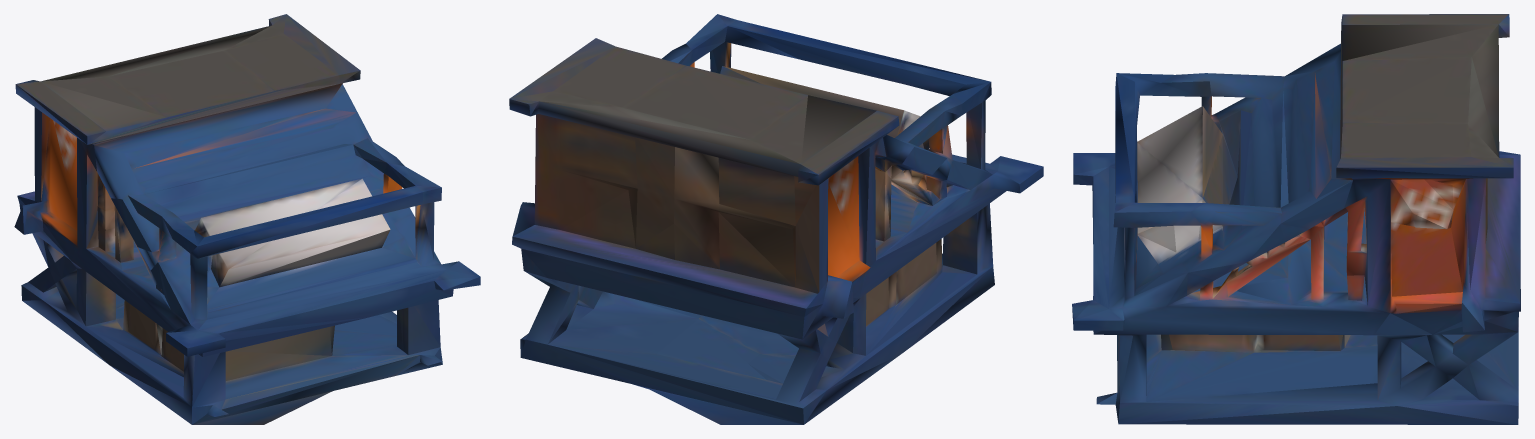
Rendered from Buil_DeliveryHub_Lv2.fbx.
The picture shows the model from 3 angles, left to right: view 1: azimuth 30°, elevation 25°; view 2: azimuth 150°, elevation 25°; view 3: azimuth 270°, elevation 25°; orthographic projection. The views are drawn at different scales.
Visible parts, largest first — view 1: tripo_node_fb7e8506.005; view 2: tripo_node_fb7e8506.005; view 3: tripo_node_fb7e8506.005.
Boxes of the visible parts, x1=… form: tripo_node_fb7e8506.005: x1=14, y1=14, x2=480, y2=424; tripo_node_fb7e8506.005: x1=509, y1=14, x2=1043, y2=424; tripo_node_fb7e8506.005: x1=1072, y1=14, x2=1520, y2=424.
Size of the model in its own units: 18.43 by 14.44 by 20.57.
Materials: 1 (1 with a texture image).
